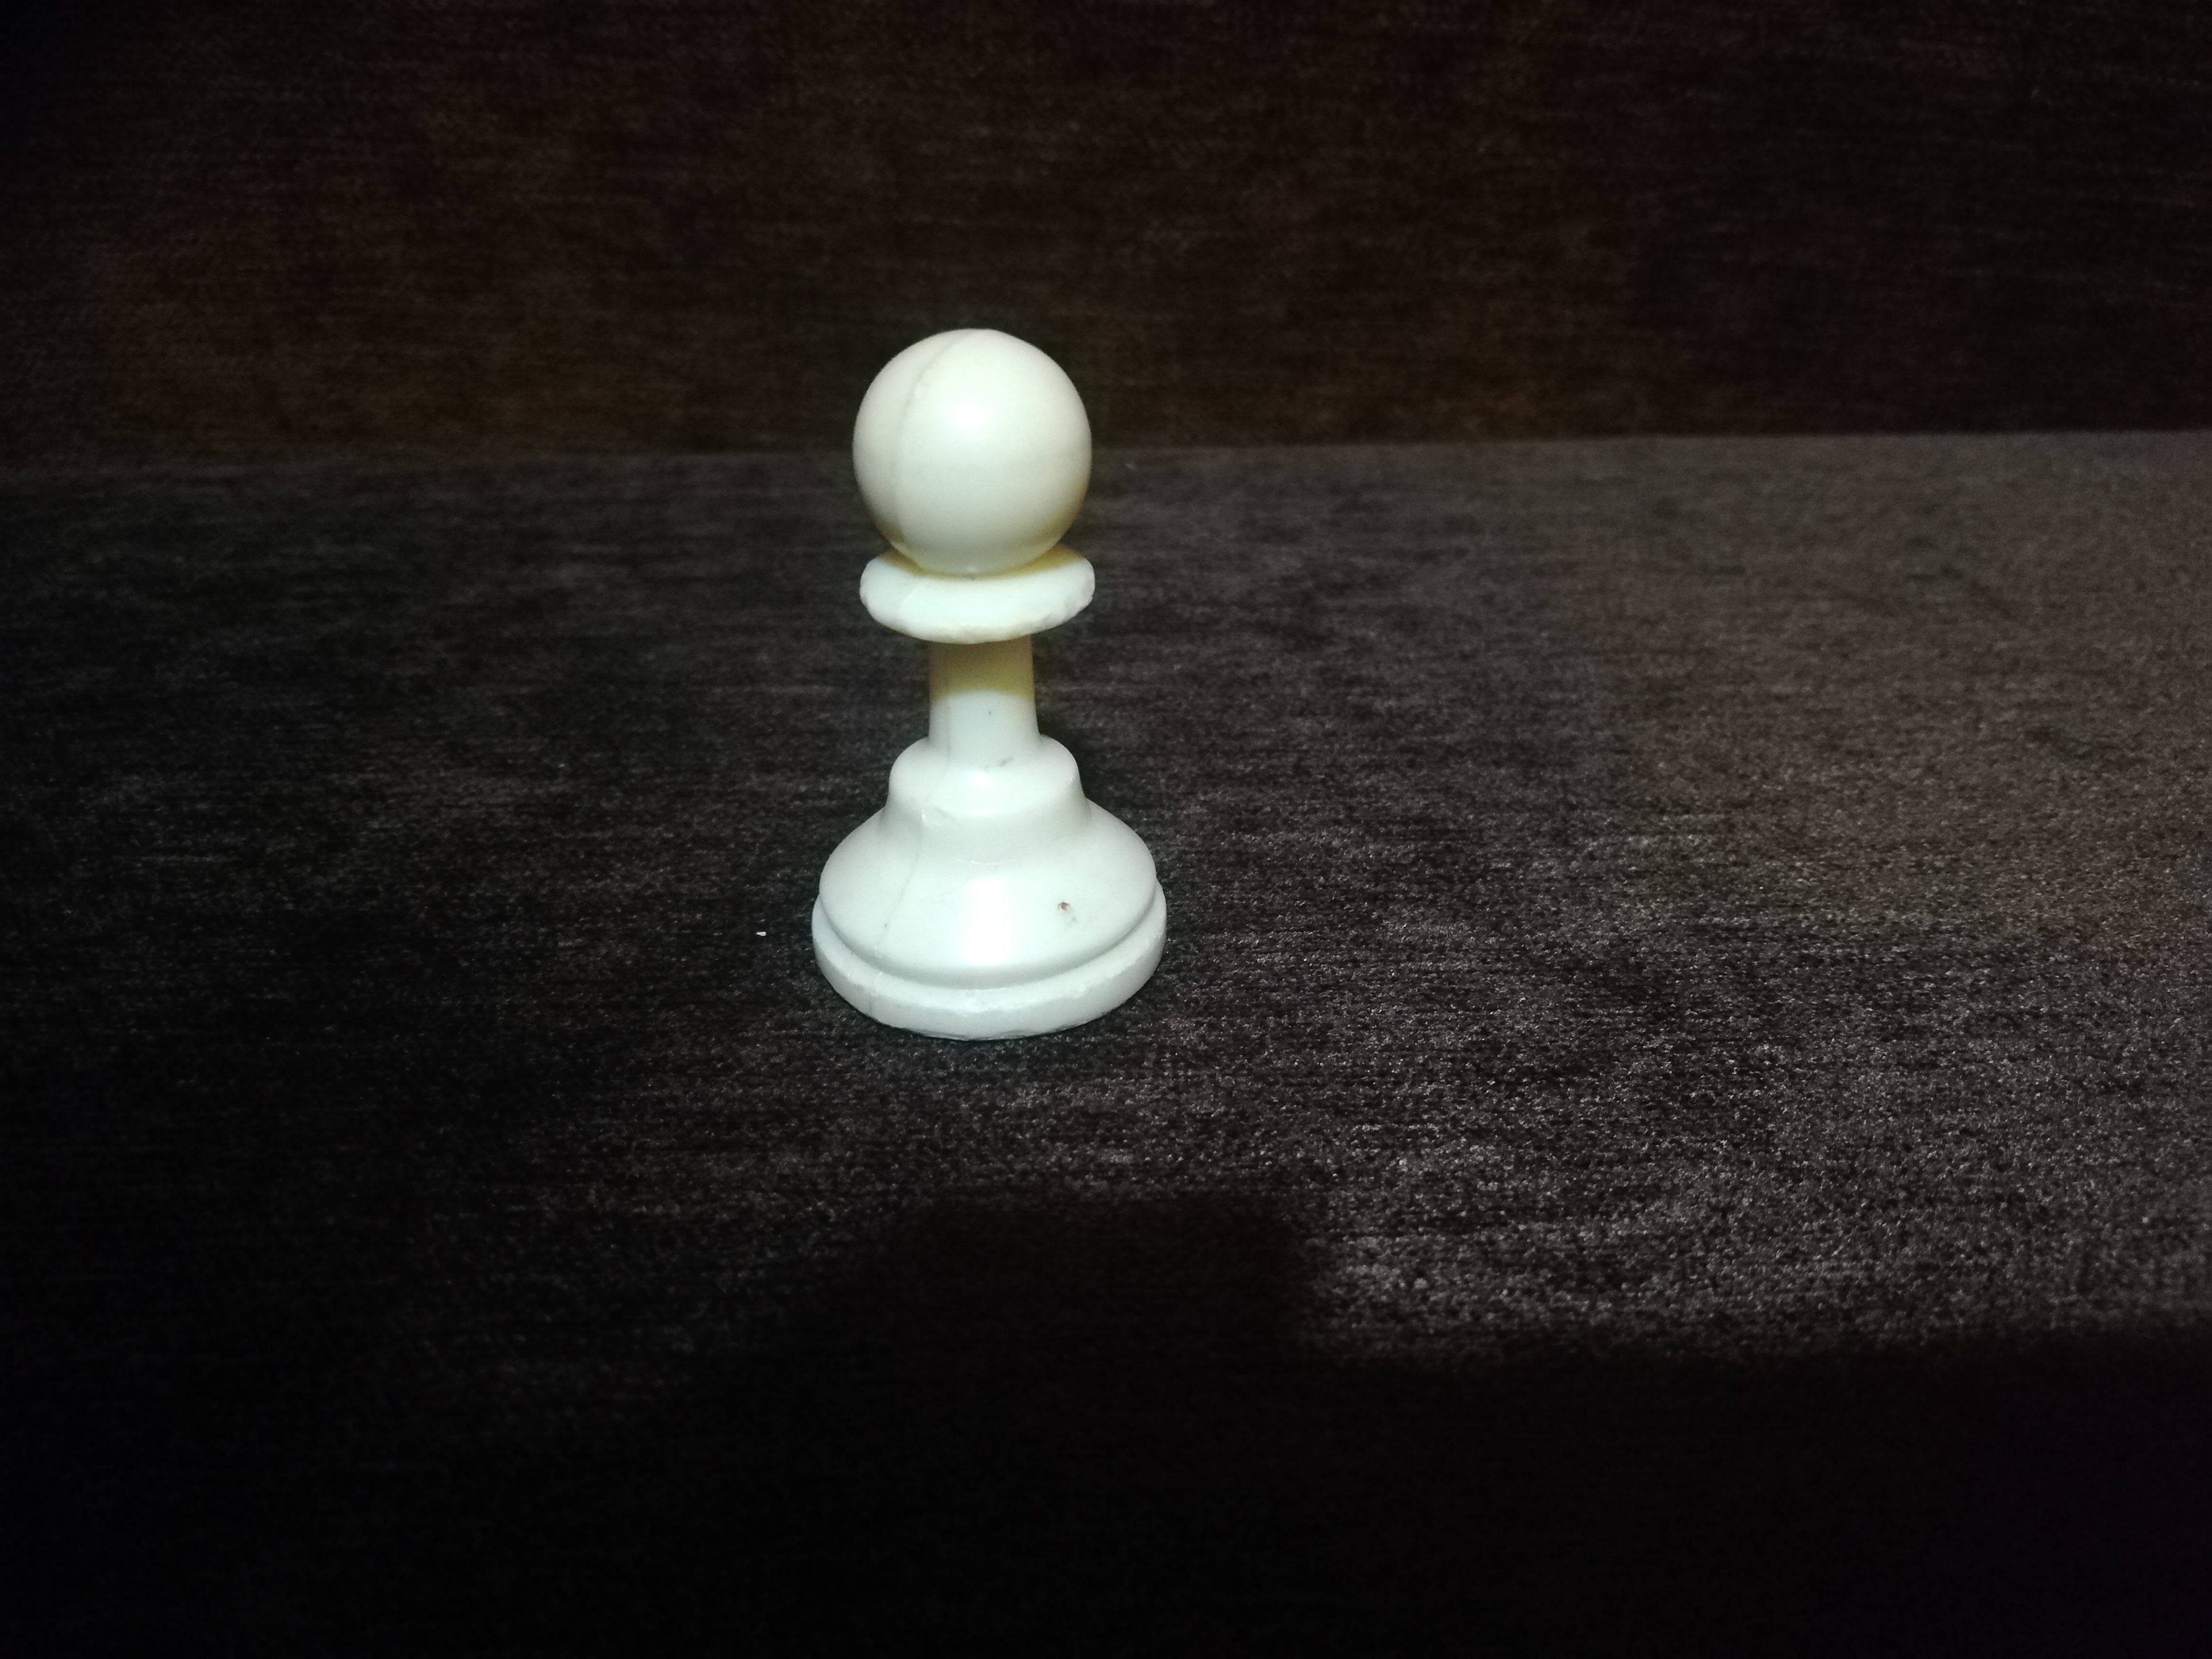Pawn: (822, 317, 1183, 1039)
